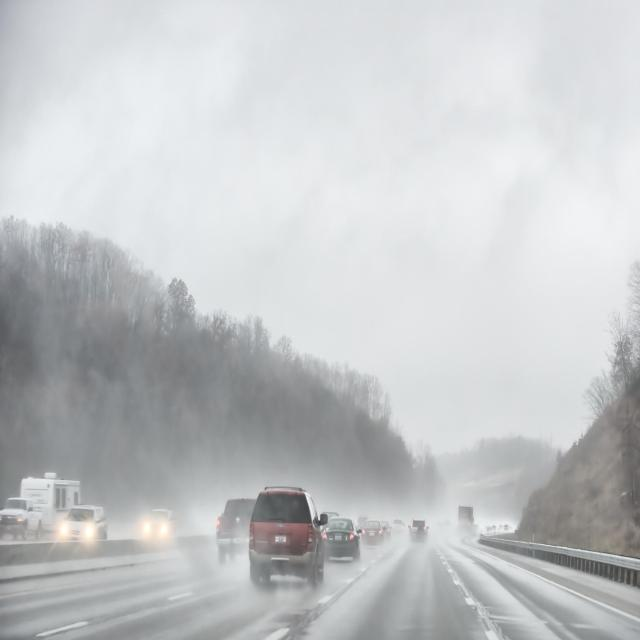Car: (246, 479, 329, 597), (212, 481, 250, 572), (52, 503, 109, 557), (141, 483, 181, 552), (324, 515, 362, 568), (405, 505, 434, 555), (363, 522, 389, 558)
Truck: (0, 473, 99, 541)
